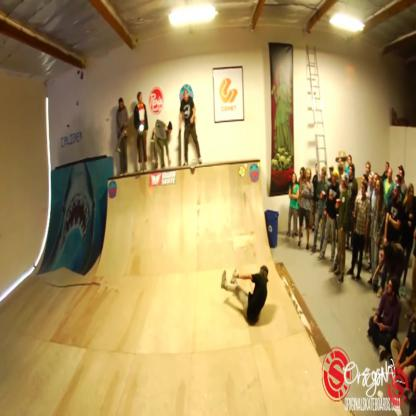Fall_Down: (220, 261, 271, 328)
